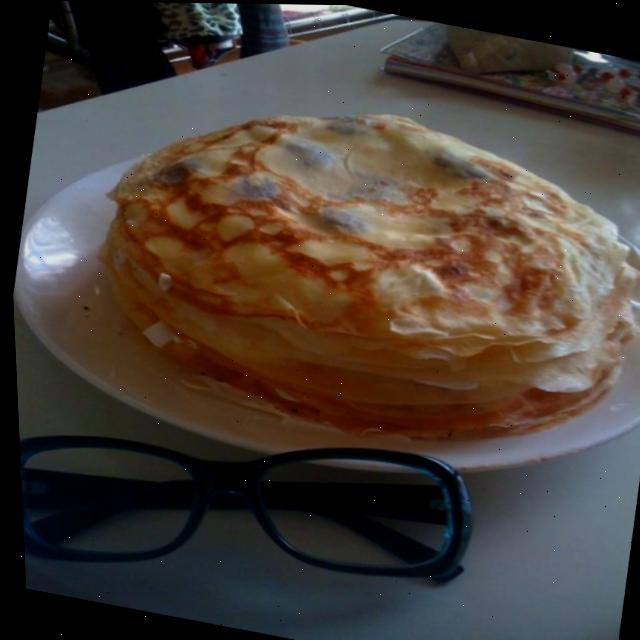蛋糕甜品: (17, 25, 640, 507)
